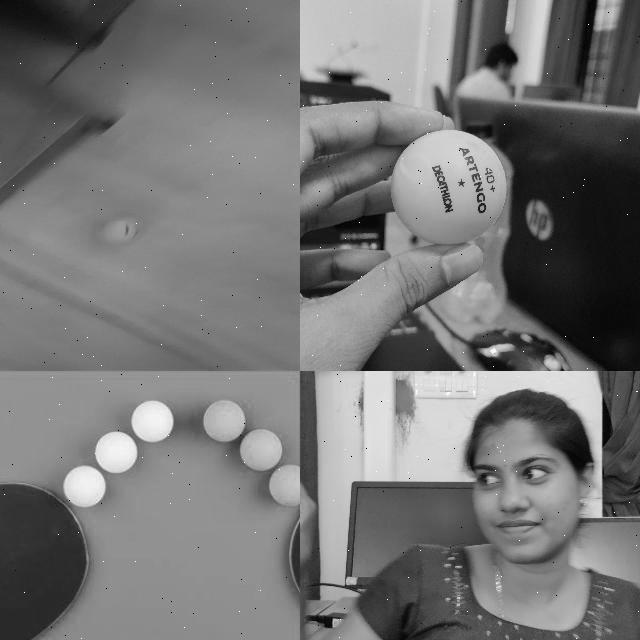ping-pong-ball: (390, 130, 506, 244), (201, 400, 243, 440), (130, 400, 172, 440), (93, 432, 135, 472), (63, 466, 105, 506), (240, 430, 280, 470), (269, 465, 299, 505), (97, 218, 143, 242)
